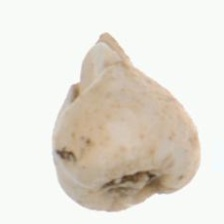L3: (68, 32, 138, 95)
L4: (51, 32, 201, 211)
